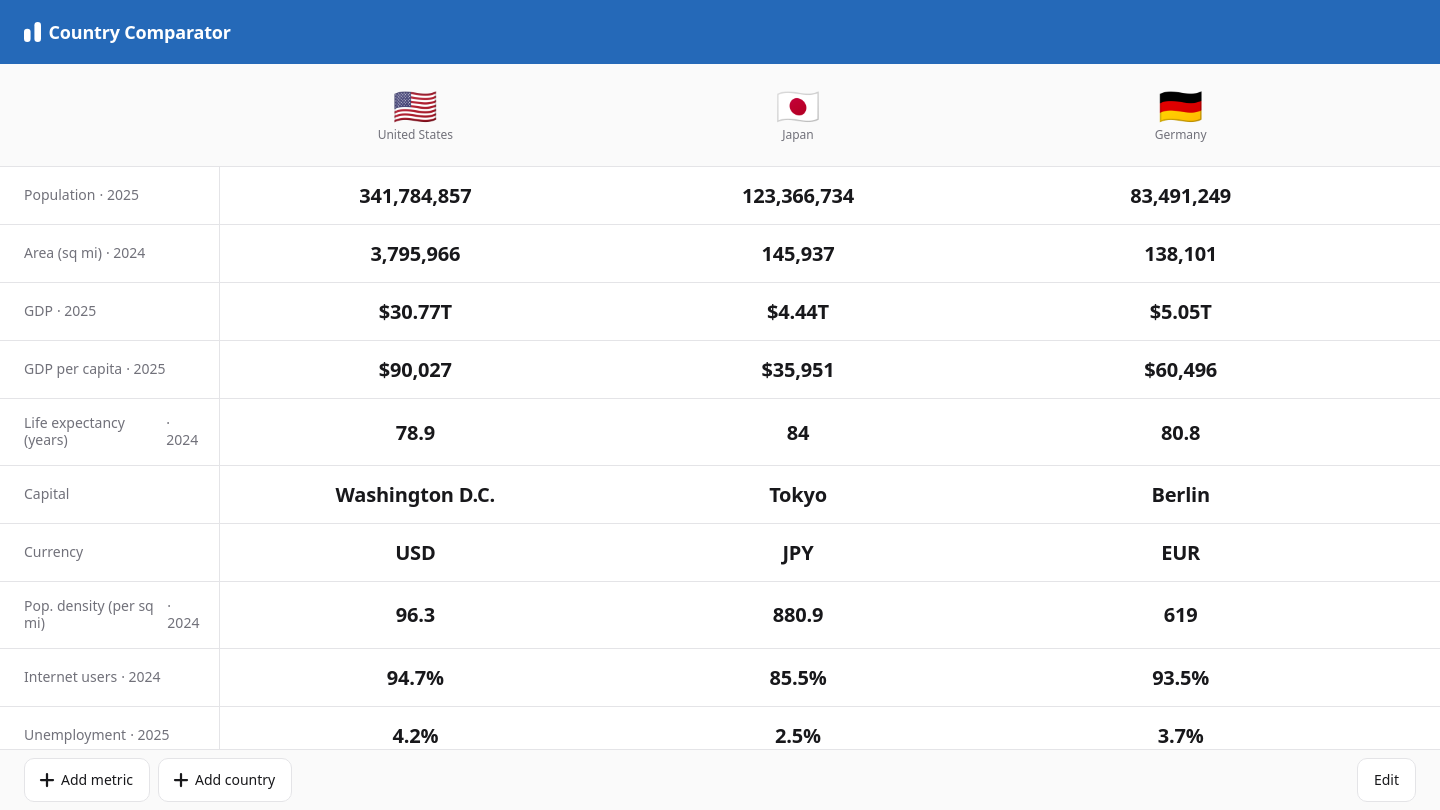
Test: App › country picker › finds a country by alias or code
Click the button "Add country".
click(225, 780)  # box [158,758,292,802]
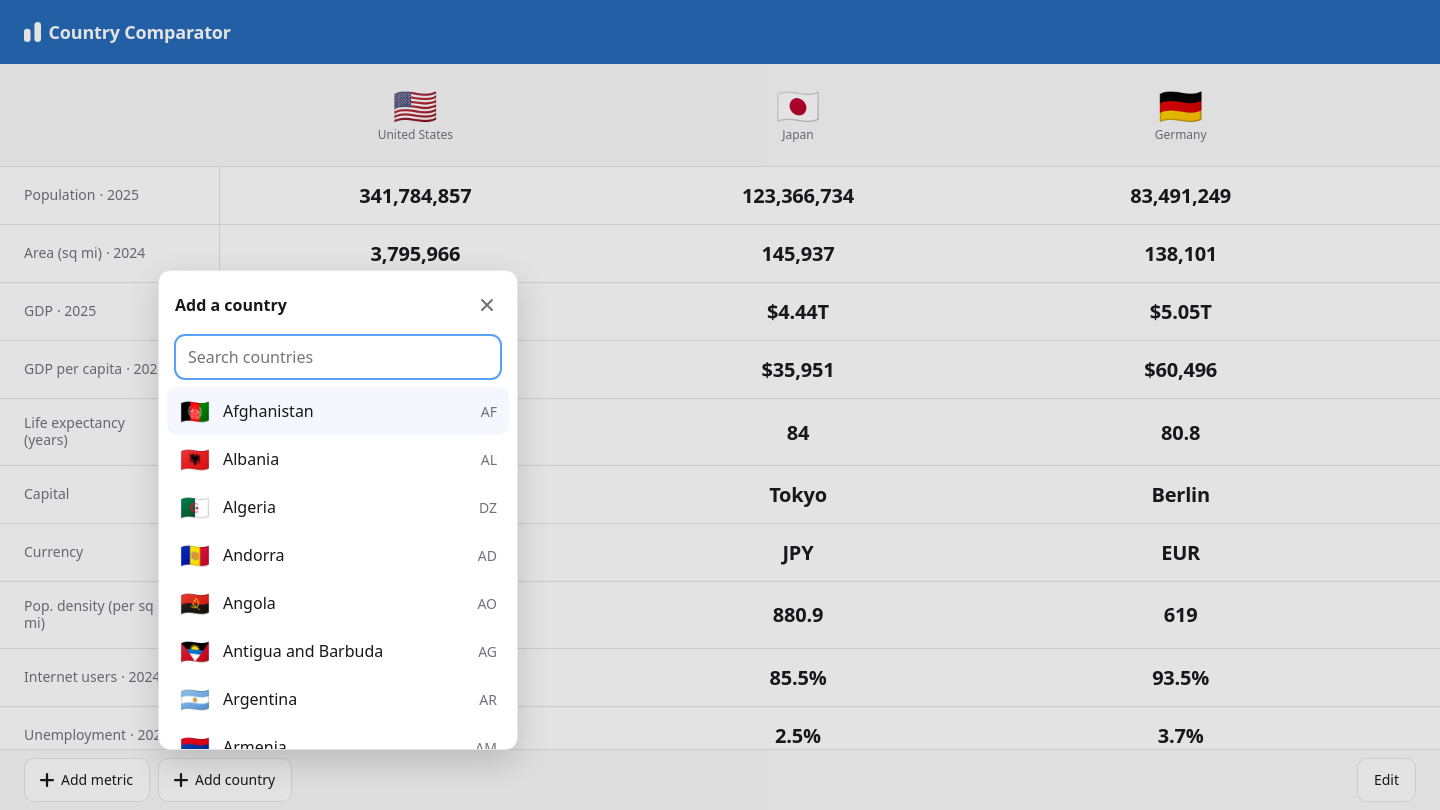
Type "uk" into the dropdown labelled "Search countries".
click(338, 357); type("uk")  # box [175,335,501,379]
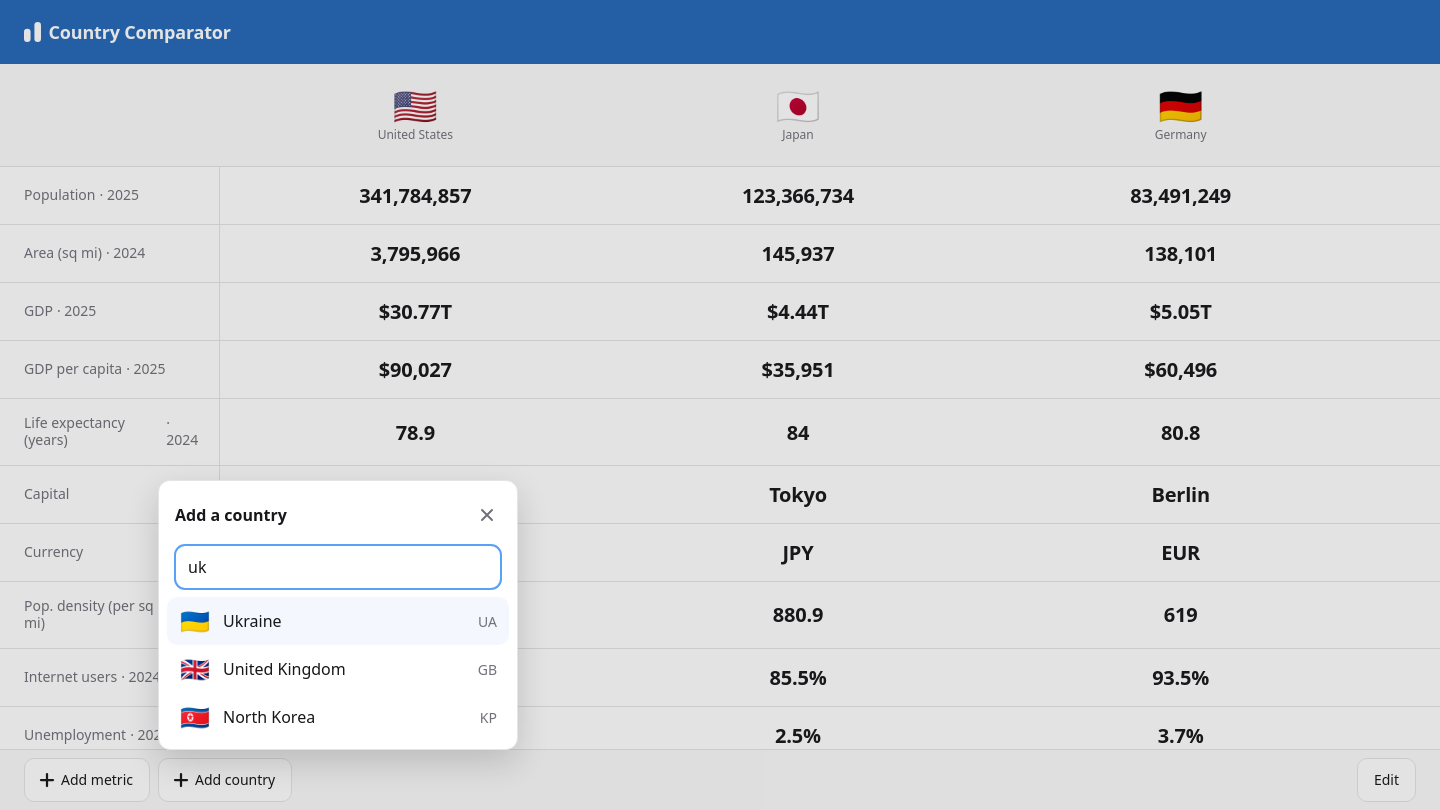
Check: the option "🇬🇧 United Kingdom GB" is shown, box [167,645,509,693]
Replace the text in the dropdown named "Search countries" with "ca" at (338, 567), box [175,545,501,589]
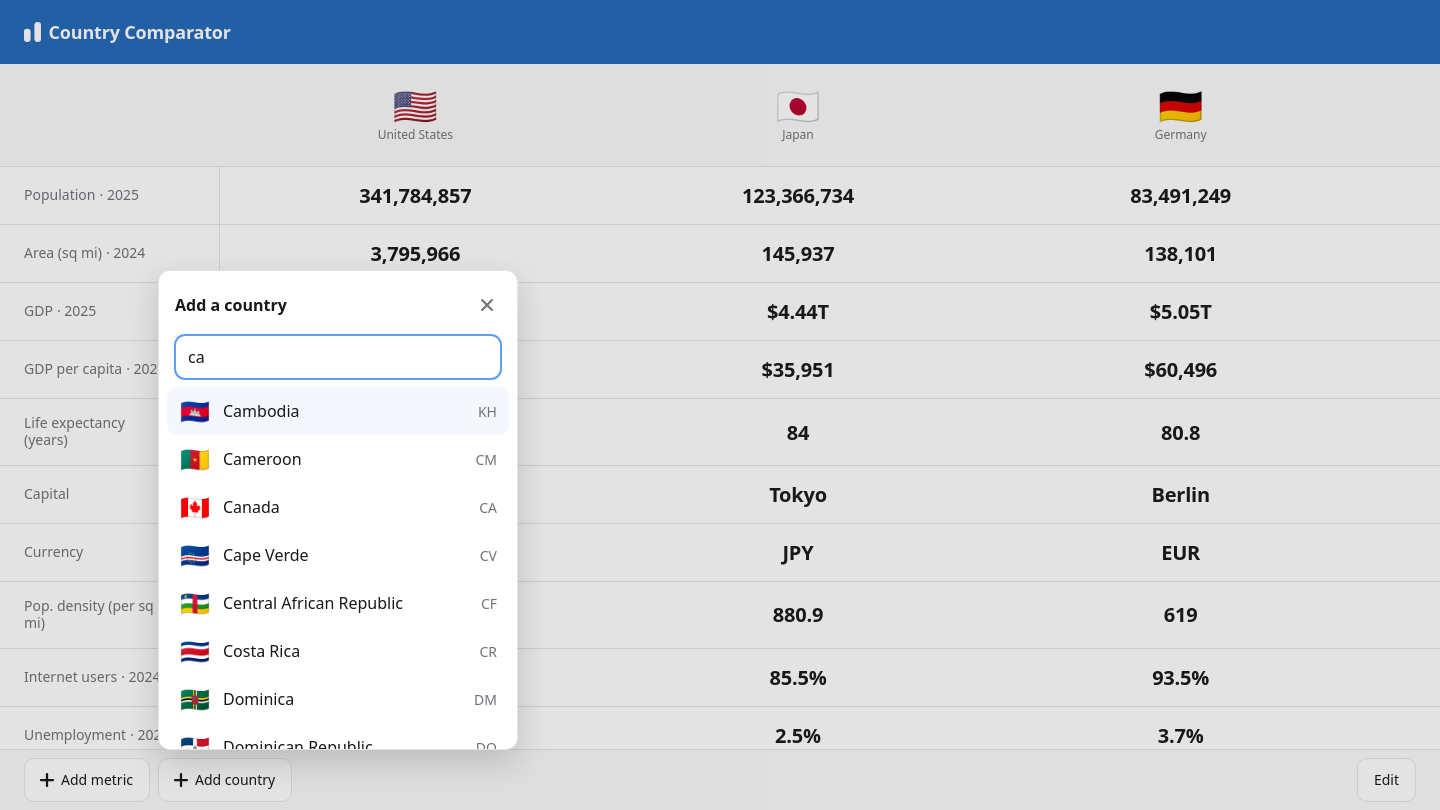
Check: the option "🇨🇦 Canada CA" is shown, box [167,483,509,531]
